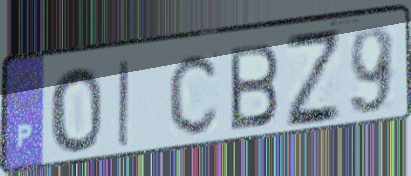9: (346, 24, 400, 116)
B: (227, 39, 282, 134)
C: (166, 49, 223, 138)
I: (115, 57, 133, 150)
O: (47, 64, 105, 155)
Z: (283, 28, 344, 132)
